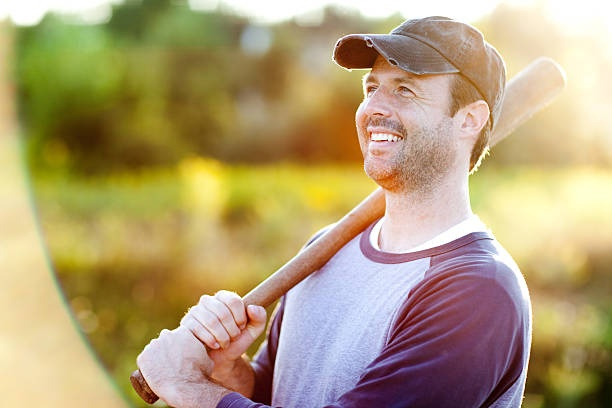bita: (137, 196, 379, 394), (490, 61, 563, 166)
